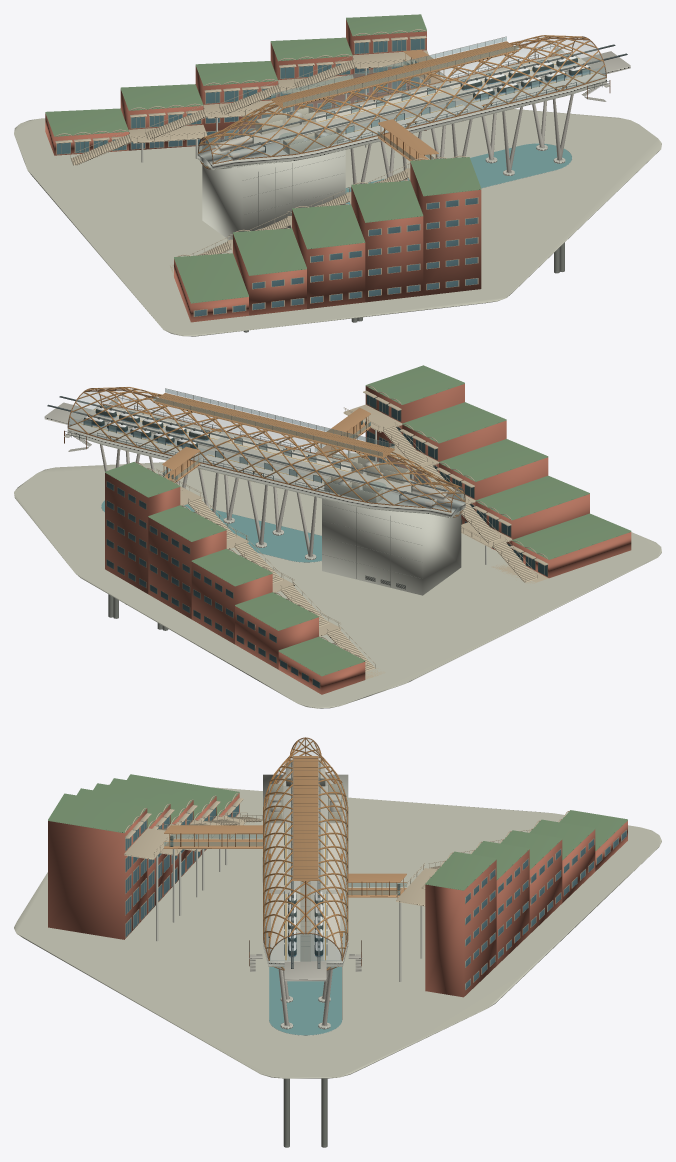
The picture shows the model from 3 angles, top to bottom: view 1: azimuth 30°, elevation 25°; view 2: azimuth 150°, elevation 25°; view 3: azimuth 270°, elevation 25°; orthographic projection. The views are drawn at different scales.
Visible parts, largest first — view 1: plaza, etfe-03, DEC046｜formConcrete, etfe-01, SideDeck｜rc, timber-shell｜oak, south-terrace-1-04, south-terrace-2-04, skywalk｜walkWood, south-terrace-3-04, v-columns｜vsteel, south-terrace-5-03 (+42 smaller); view 2: plaza, etfe-03, DEC046｜formConcrete, etfe-01, SideDeck｜rc, timber-shell｜oak, north-terrace-1-04, north-terrace-2-04, skywalk｜walkWood, north-terrace-3-04, south-terrace-5-03, south-terrace-4-03 (+41 smaller); view 3: plaza, etfe-03, south-terrace-1-04, north-terrace-1-04, timber-shell｜oak, SideDeck｜rc, 候車帶 (×4), water｜water, skywalk｜walkWood, etfe-01, south-terrace-1-03, north-terrace-2-04 (+26 smaller).
Boxes of the visible parts, x1,y1,x2,y2 form: plaza: (14, 109, 661, 336); etfe-03: (205, 35, 604, 154); DEC046｜formConcrete: (202, 145, 345, 239); etfe-01: (198, 40, 606, 168); SideDeck｜rc: (197, 53, 606, 168); timber-shell｜oak: (198, 35, 606, 169); south-terrace-1-04: (410, 162, 481, 295); south-terrace-2-04: (351, 186, 423, 302); skywalk｜walkWood: (271, 41, 518, 108); south-terrace-3-04: (292, 209, 365, 308); v-columns｜vsteel: (350, 94, 573, 184); south-terrace-5-03: (174, 253, 248, 303); plaza: (14, 453, 661, 708); etfe-03: (69, 387, 458, 503); DEC046｜formConcrete: (322, 492, 461, 595); etfe-01: (68, 392, 465, 517); SideDeck｜rc: (67, 404, 465, 517); timber-shell｜oak: (68, 387, 465, 517); north-terrace-1-04: (105, 473, 180, 593); north-terrace-2-04: (148, 517, 226, 619); skywalk｜walkWood: (153, 393, 394, 458); north-terrace-3-04: (191, 562, 272, 644); south-terrace-5-03: (512, 513, 631, 559); south-terrace-4-03: (475, 475, 589, 520); plaza: (14, 784, 661, 1078); etfe-03: (267, 738, 344, 948); south-terrace-1-04: (48, 809, 147, 939); north-terrace-1-04: (425, 860, 496, 997); timber-shell｜oak: (263, 738, 348, 969); SideDeck｜rc: (263, 759, 348, 965); 候車帶 (×4): (271, 823, 340, 960); water｜water: (269, 967, 341, 1035); skywalk｜walkWood: (292, 756, 318, 880); etfe-01: (263, 739, 347, 970); south-terrace-1-03: (48, 793, 147, 833); north-terrace-2-04: (496, 849, 529, 965).
Size of the model in its own units: 134 by 53 by 124.
